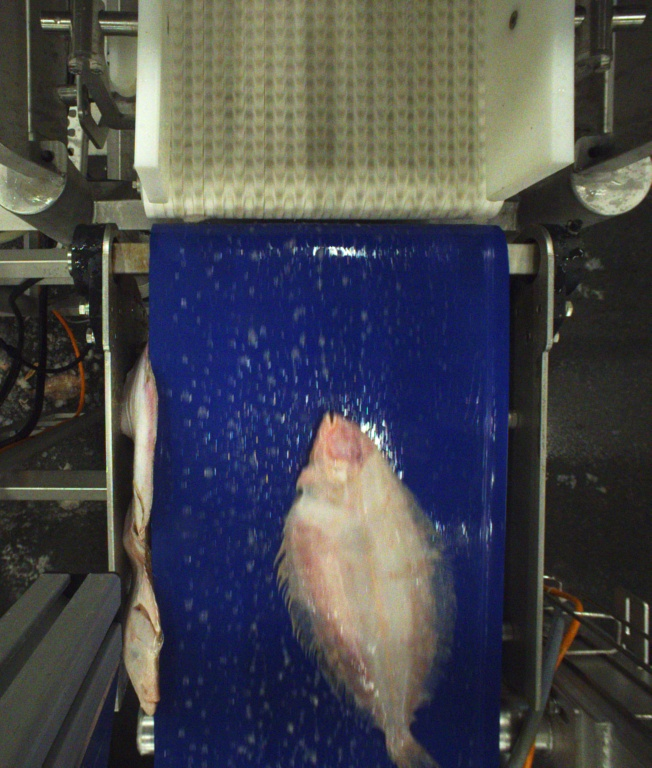WIT: (276, 411, 455, 768)
